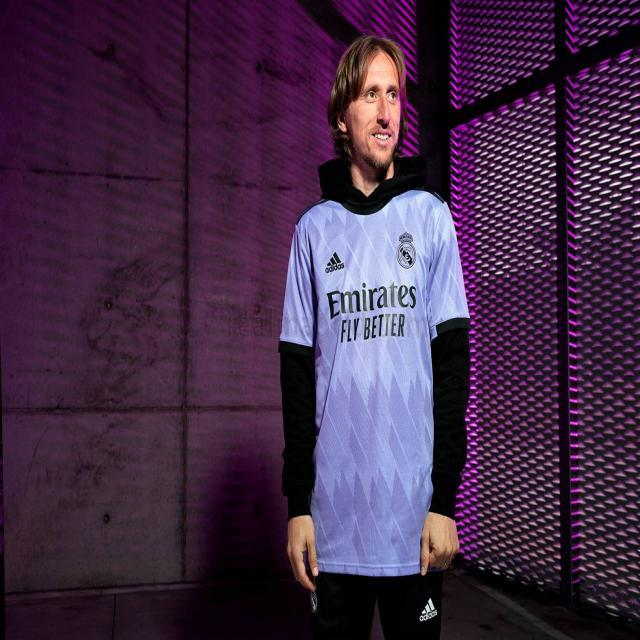Adidas: (325, 250, 344, 274)
Emirates: (326, 280, 416, 320)
